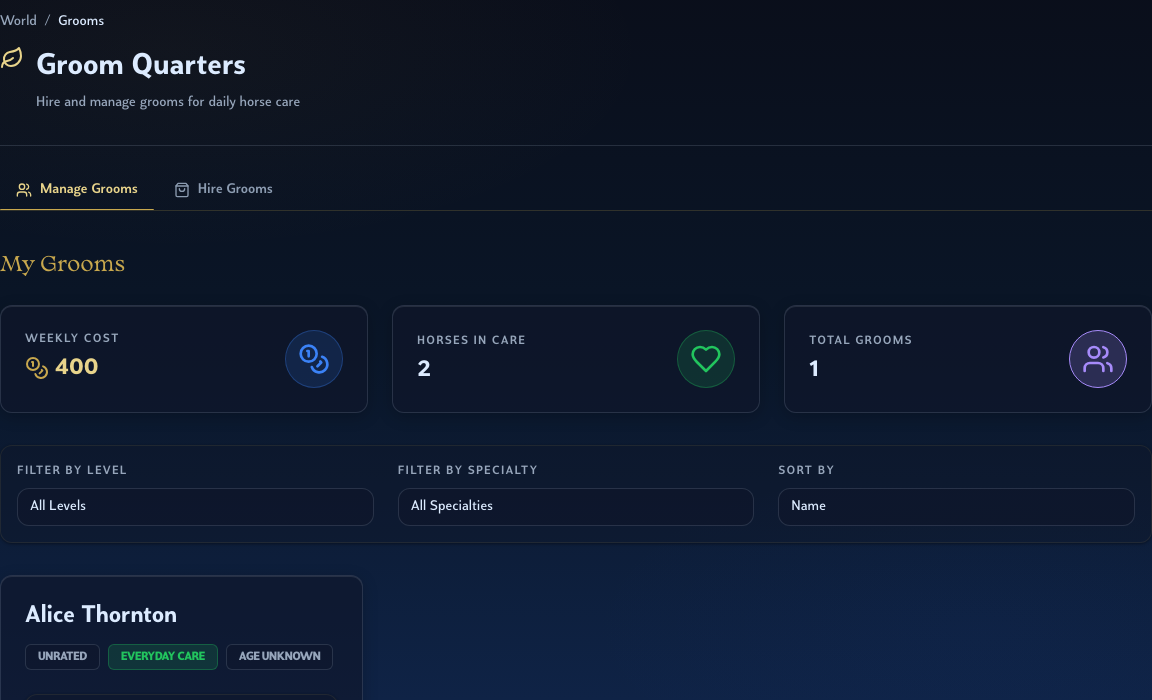
GroomsPage — manage/hire tabs + cross-tab jump (Equoria-o5hub.30) › manually clicking the Hire tab shows the groom marketplace list
Click the tab with test id "hire-tab" at {"x": 223, "y": 190}, box [158,170,289,210]
(page scrolled)
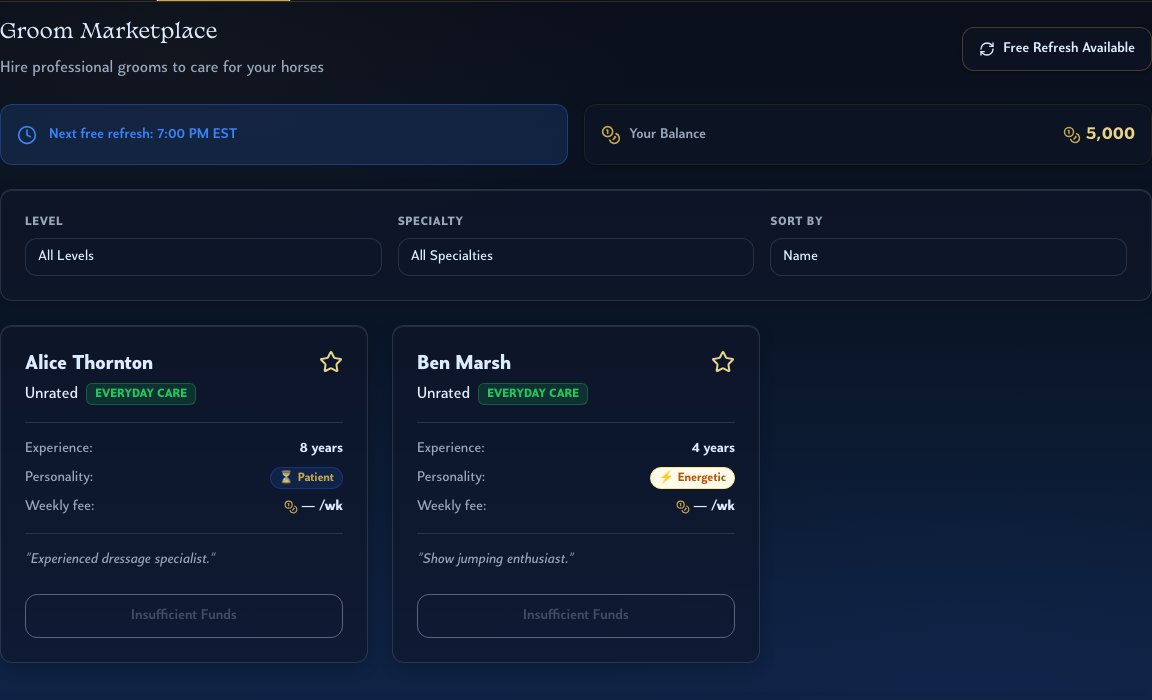
Now the element with test id "groom-list" is shown
